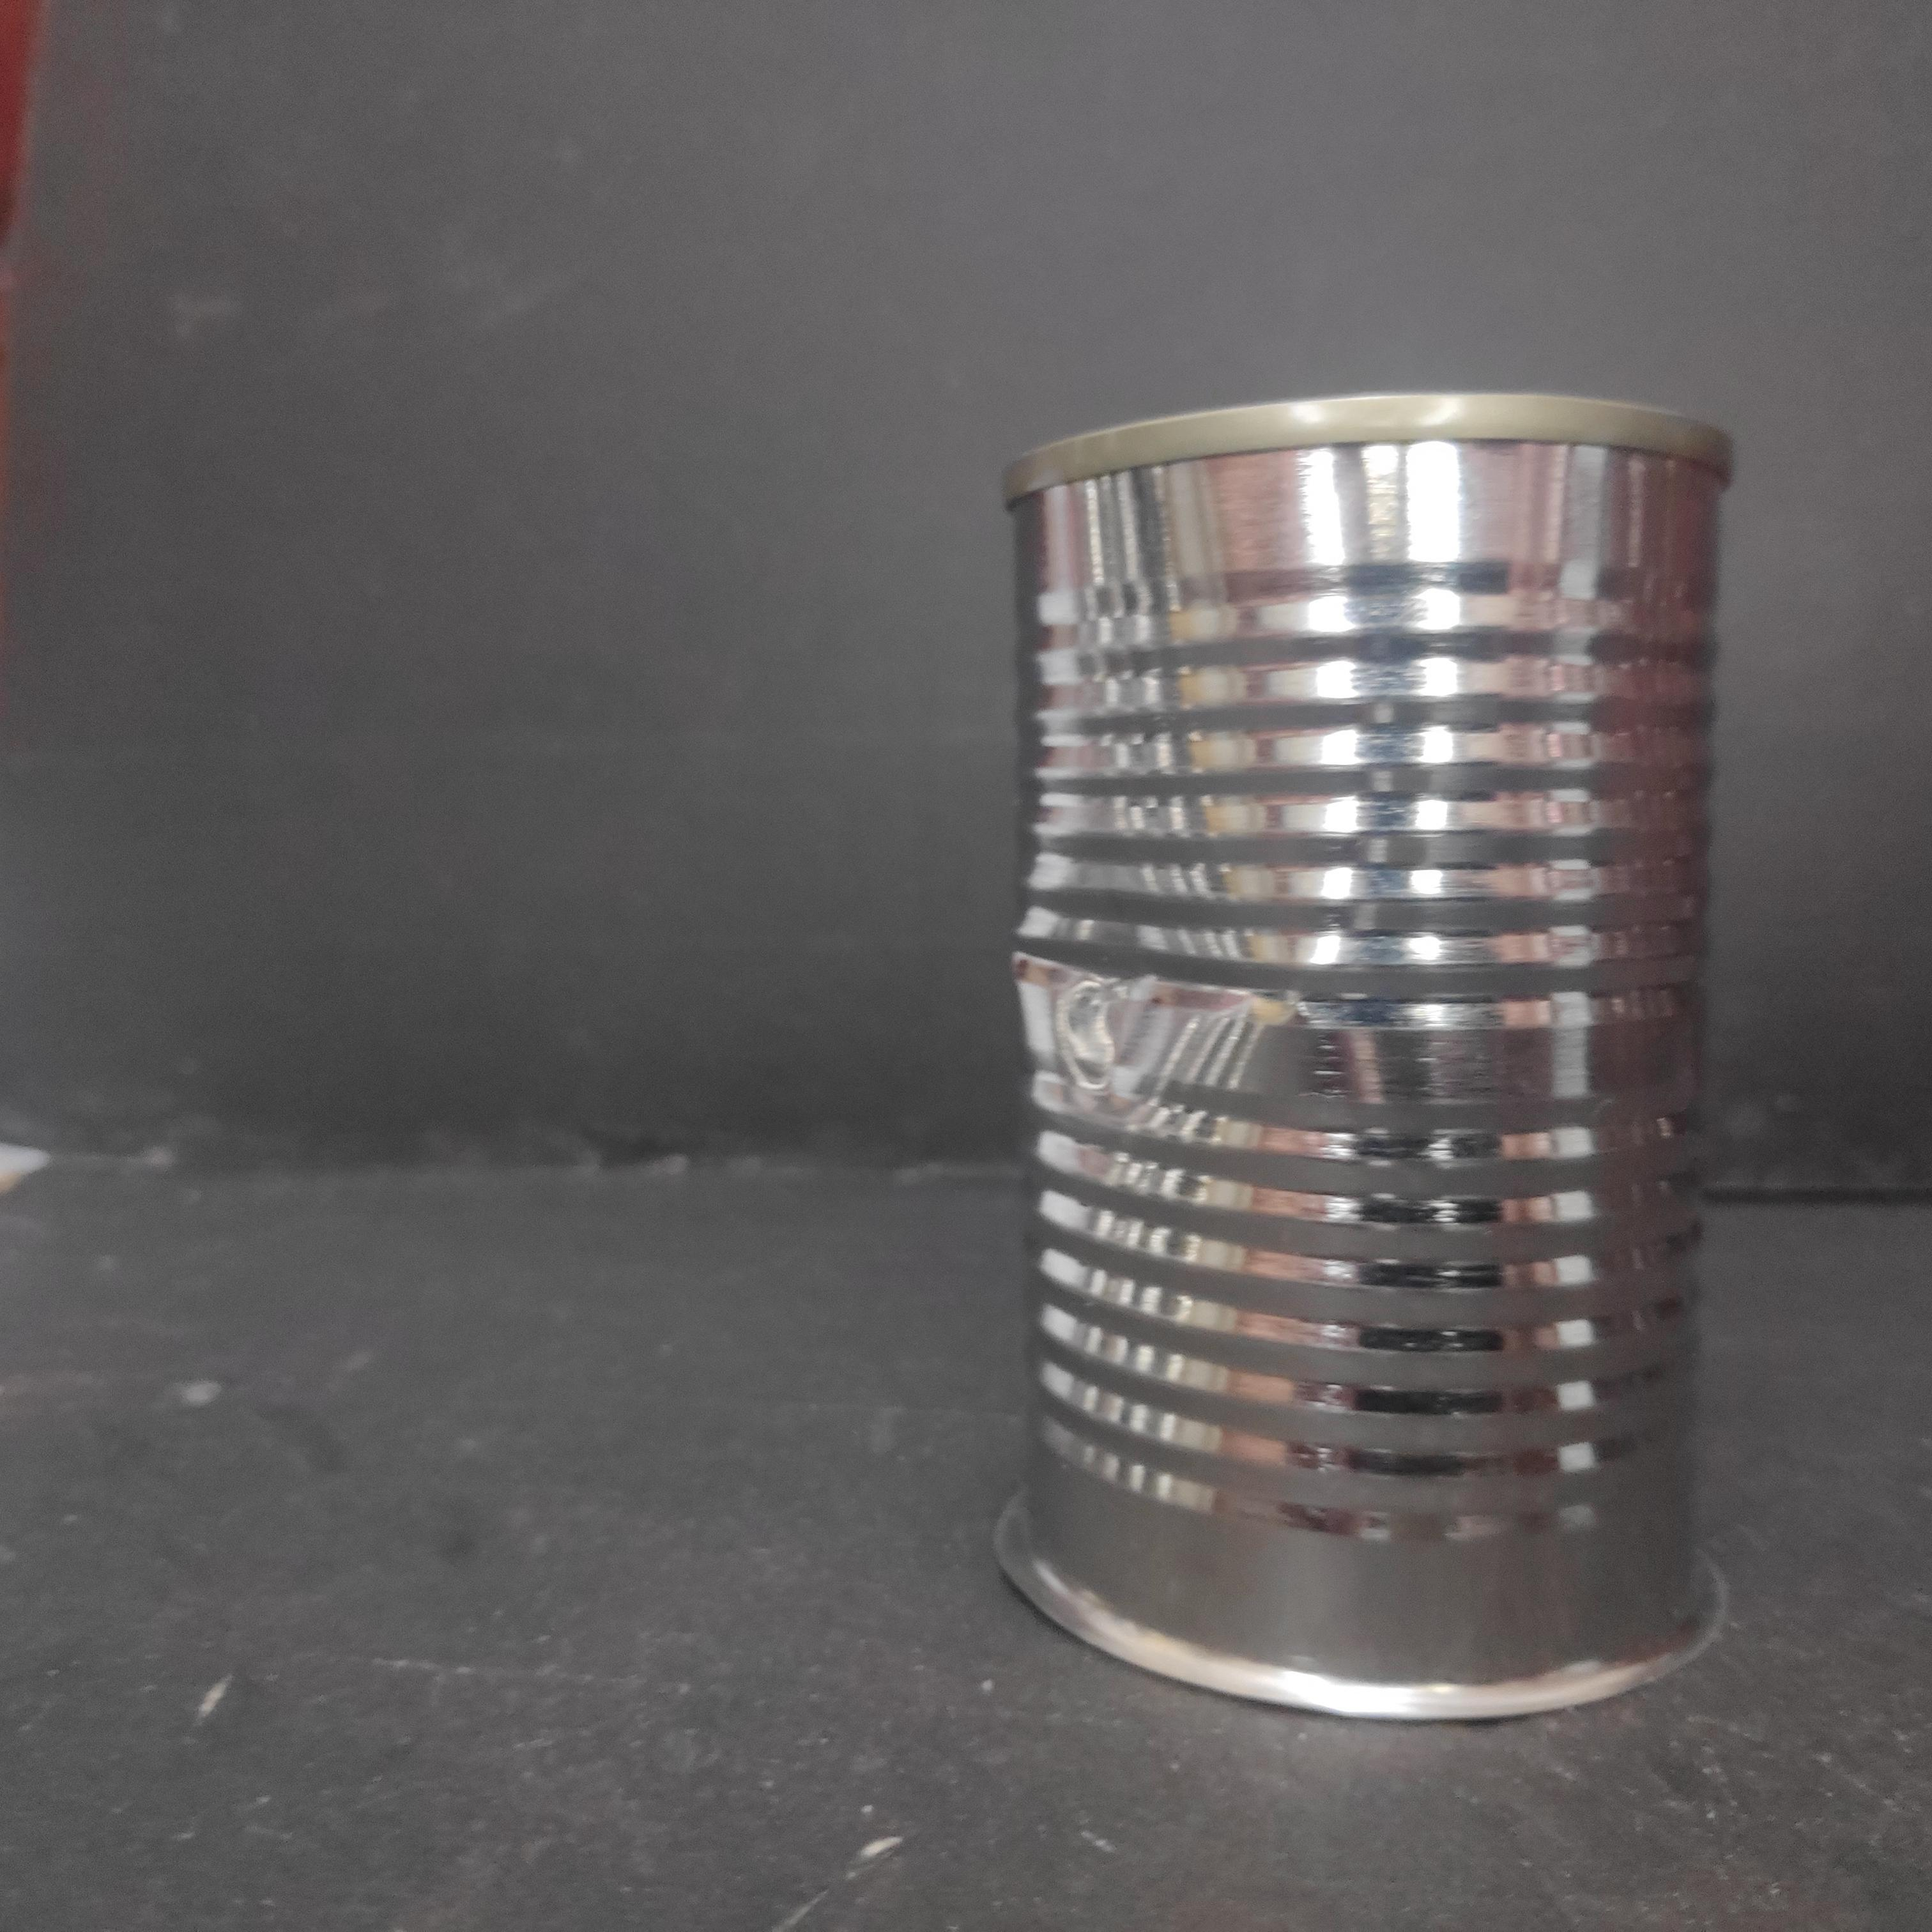Minor Defect: (992, 378, 1744, 1737)
